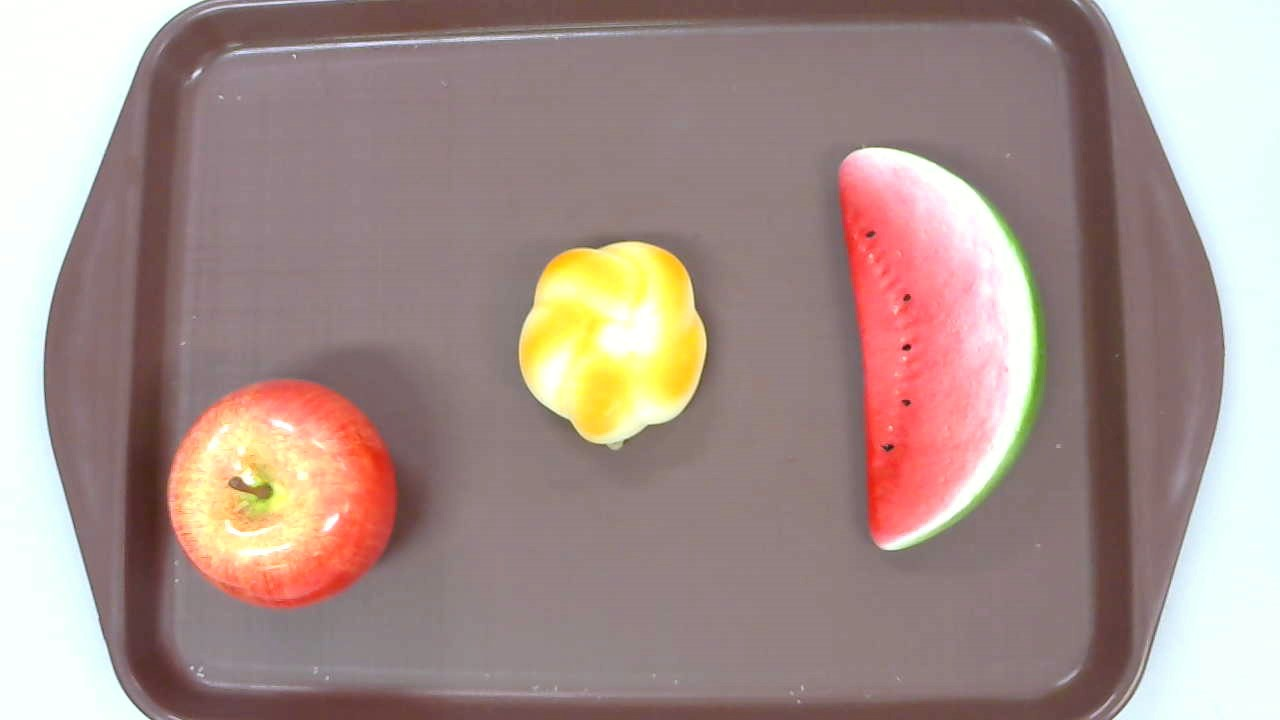red apple: (166, 377, 396, 612)
twist bread: (518, 241, 708, 451)
water melon: (839, 147, 1045, 552)
